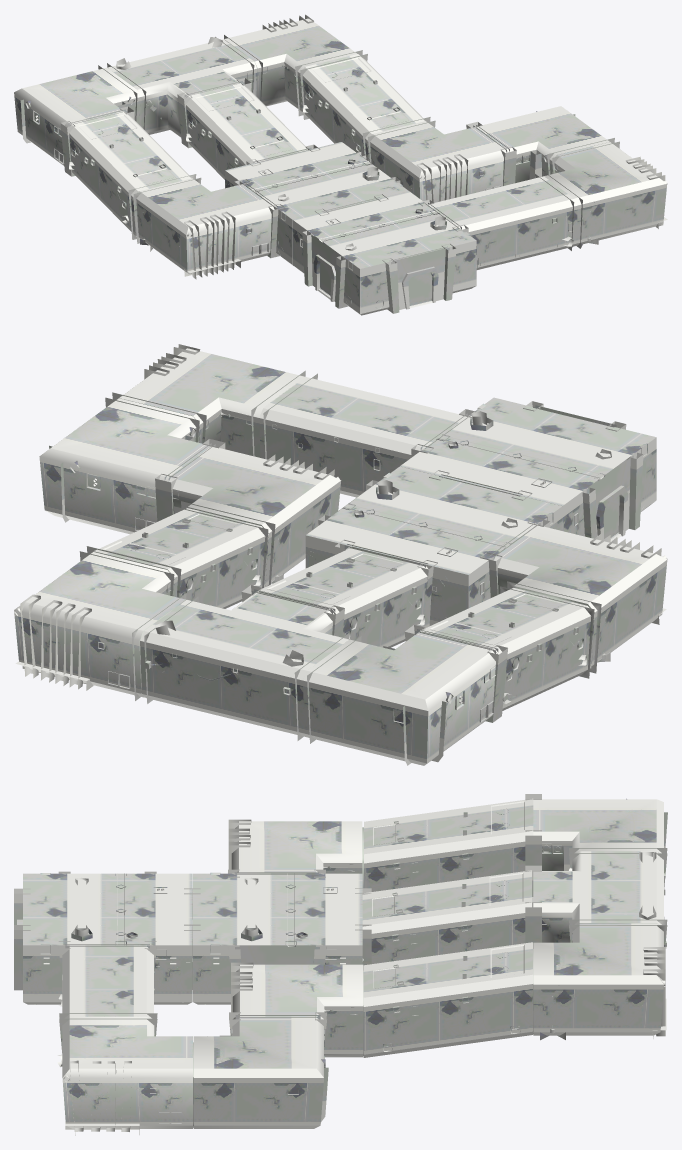
File: Combined_Mesh_root_scene__6_2d4a9e78__zombies2_diffuse_11_814463c1_c1f257.obj
3 views of the same model, one above another, from view 1: azimuth 30°, elevation 25°; view 2: azimuth 150°, elevation 25°; view 3: azimuth 270°, elevation 25° (orthographic). The views are drawn at different scales.
Size of the model in its own units: 71.92 by 12.27 by 77.15.
Materials: 202 (202 with a texture image).
